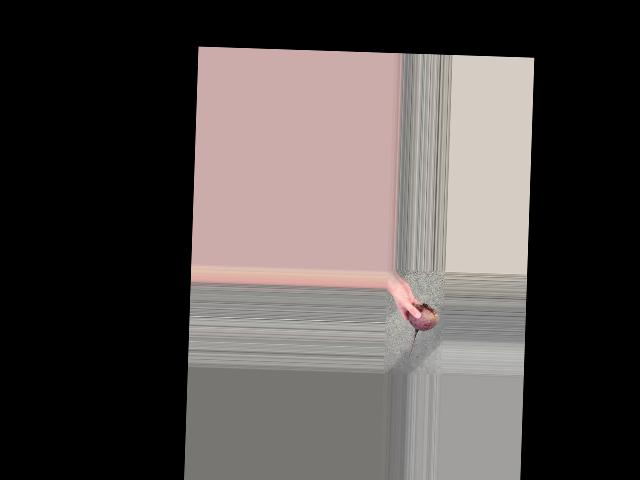beet: (407, 303, 439, 358)
